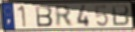1: (17, 5, 27, 28)
4: (76, 4, 91, 28)
5: (94, 4, 110, 27)
B: (111, 4, 131, 28), (35, 5, 55, 28)
R: (54, 5, 74, 28)
